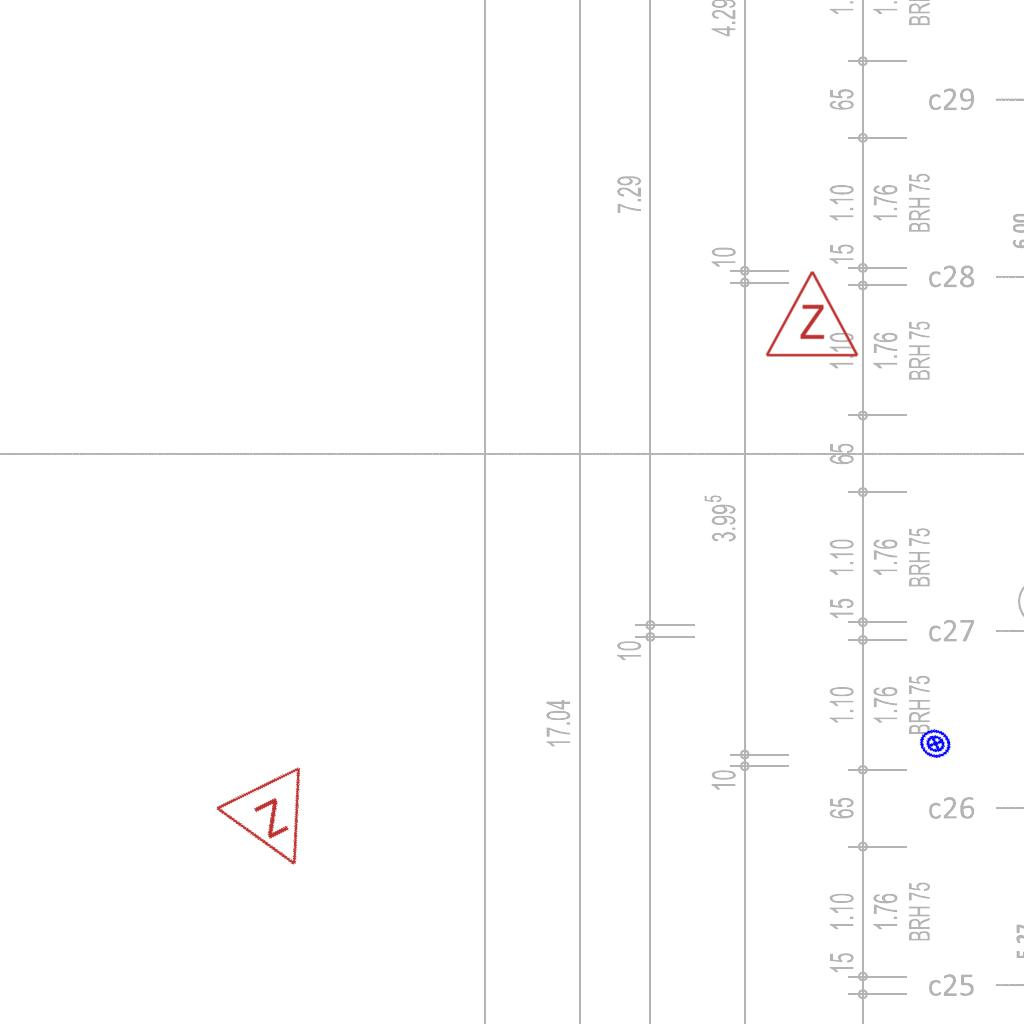Taster_beleuchtet: (913, 721, 958, 766)
Zimmersignalleuchte: (211, 758, 343, 892), (762, 264, 860, 364)
